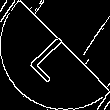L_NE: (26, 26, 84, 84)
